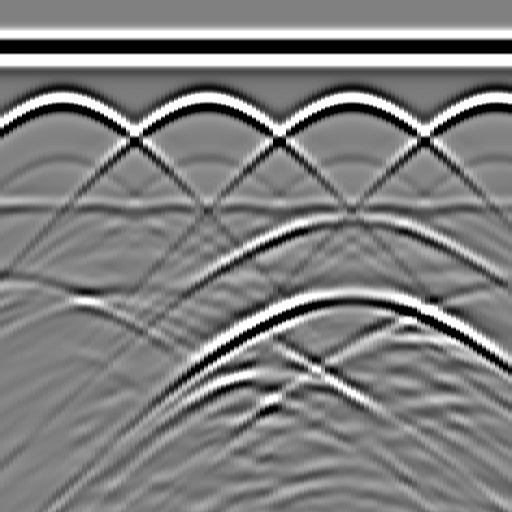grout_surface: (1, 192, 512, 222)
rebar: (41, 81, 81, 121), (185, 81, 225, 121), (329, 81, 369, 121), (473, 81, 512, 121)
rock_surface: (1, 280, 511, 376)
water_void: (318, 194, 378, 234)
